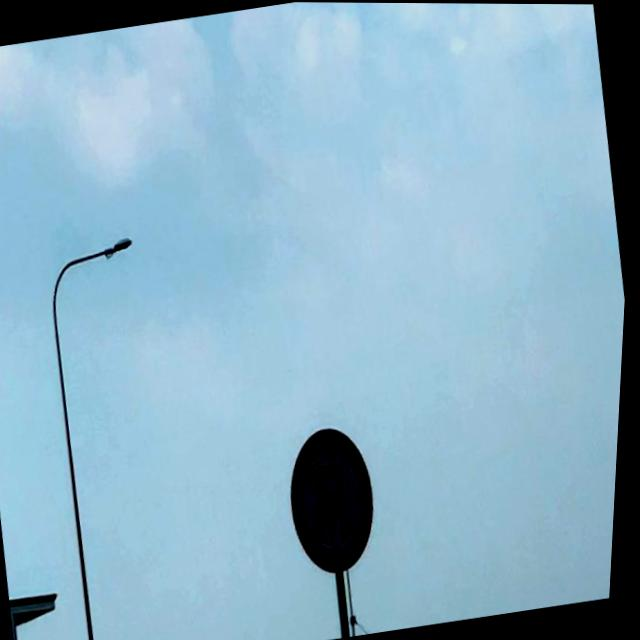Cam quay dau xe: (282, 420, 393, 580)
